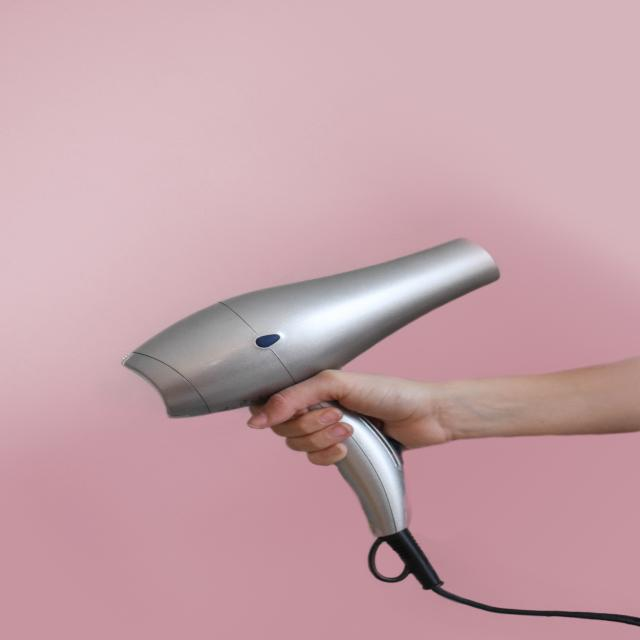dryer: (118, 234, 504, 589)
